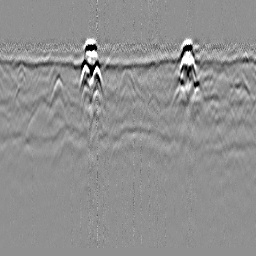cavity: (119, 68, 135, 91)
